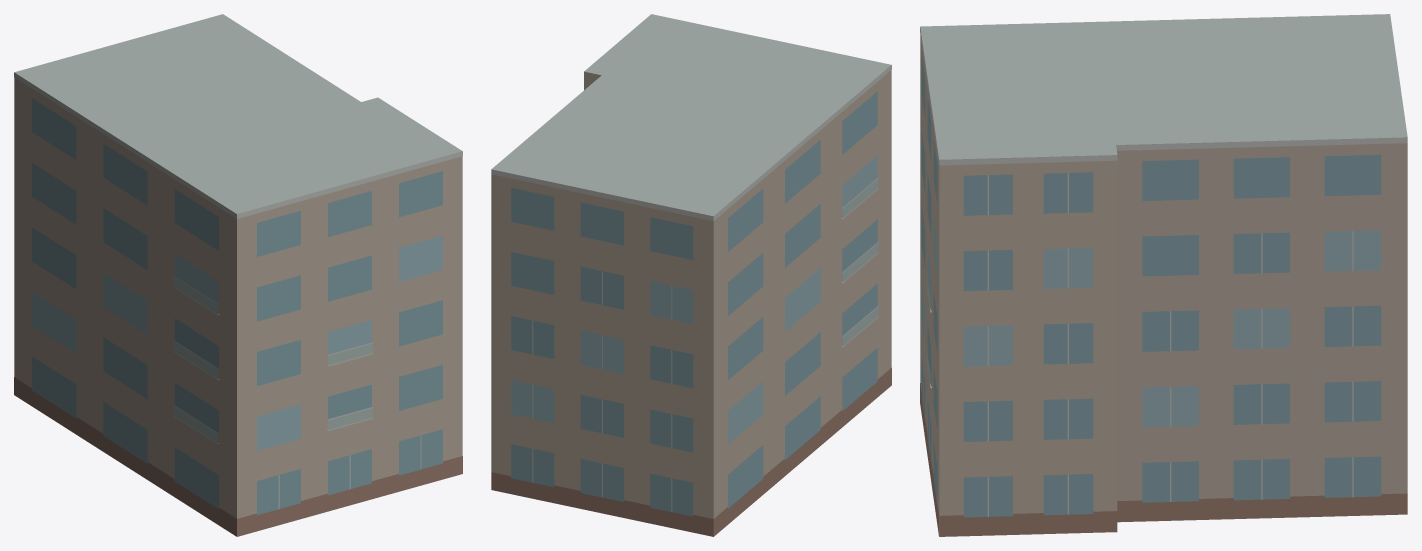
The model's file is survey-upis-32604396.glb.
3 renders of one model, left to right at view 1: azimuth 30°, elevation 25°; view 2: azimuth 150°, elevation 25°; view 3: azimuth 270°, elevation 25°, orthographic. The views are drawn at different scales.
Visible parts, largest first — view 1: survey-upis-32604396.tmp; view 2: survey-upis-32604396.tmp; view 3: survey-upis-32604396.tmp.
Boxes of the visible parts, <box> form: survey-upis-32604396.tmp: <box>14,14,462,536</box>; survey-upis-32604396.tmp: <box>491,14,891,536</box>; survey-upis-32604396.tmp: <box>920,14,1407,536</box>.
Bounding box in the file's own units: 13.27 × 16 × 18.76.
